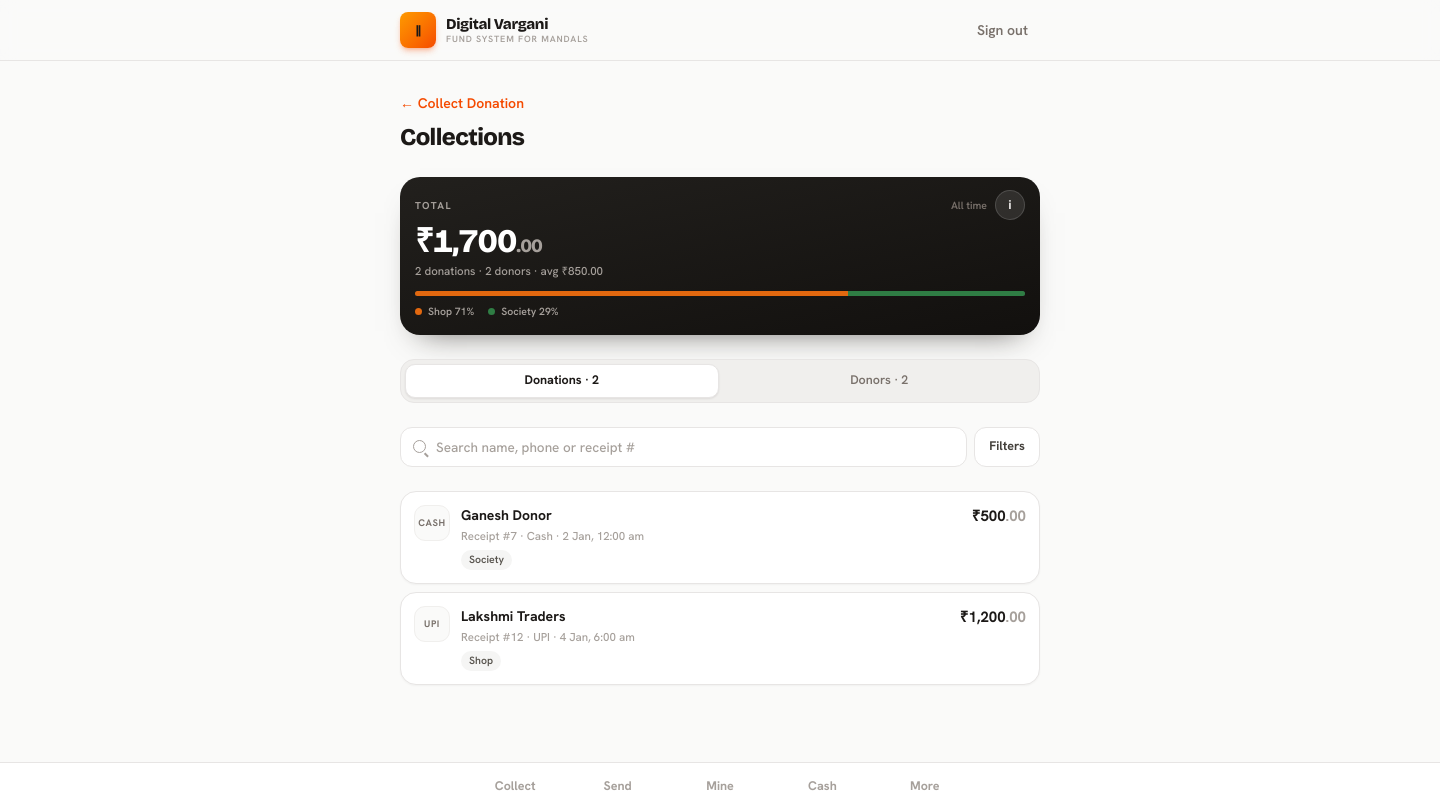
CollectionsContent — the Collections & donors tab › narrows the list by donor name, phone digits, receipt number and collector name
The width and height of the screenshot is (1440, 810).
Expected: the text "Ganesh Donor" is shown, [461,506,552,524]
// Name (case-insensitive, partial).
Type "LAKSH" into the search field at (695, 447), box [436,436,954,457]
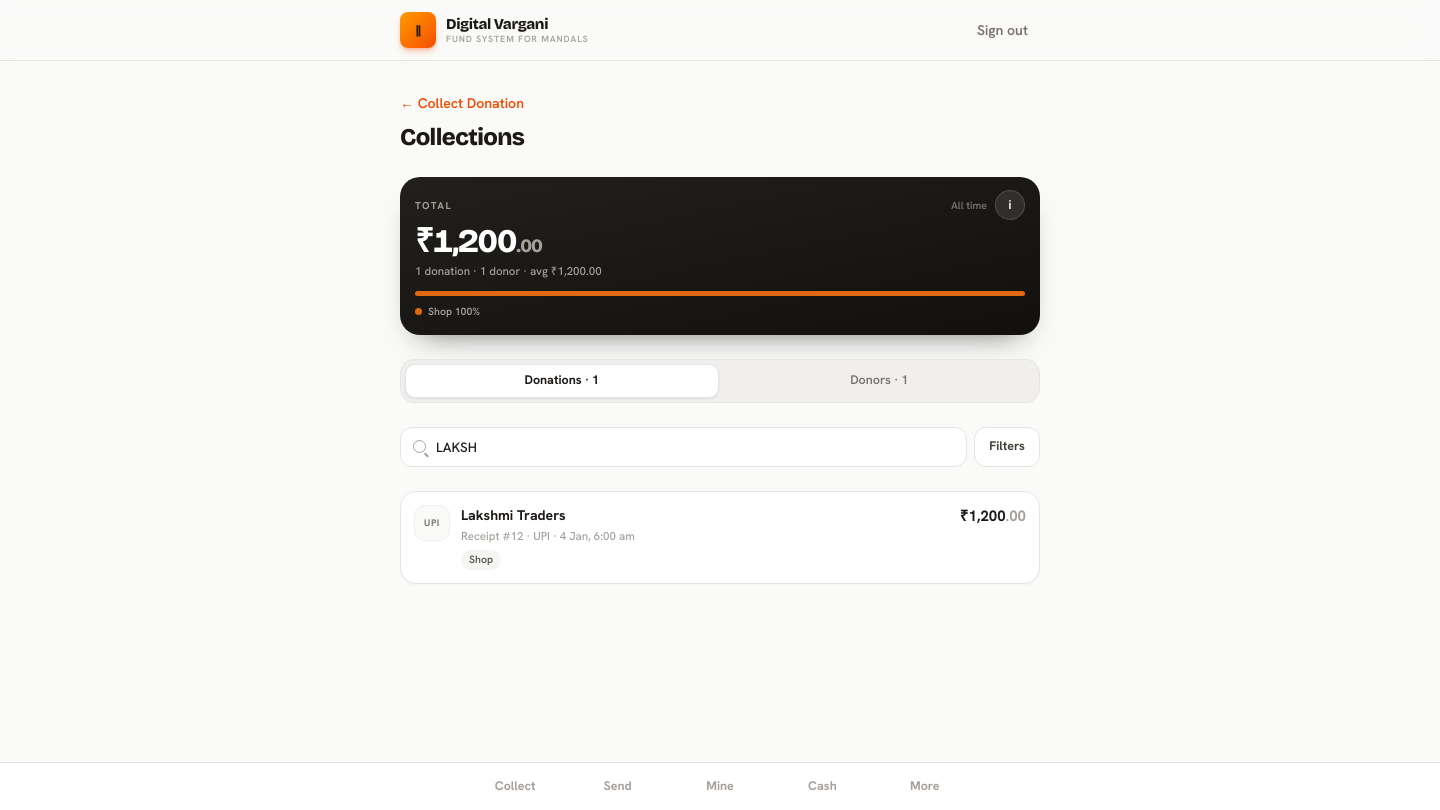
Expected: the text "Lakshmi Traders" is shown, [461,506,566,524]
Result: the button "Ganesh Donor" is gone
// Phone digits — the legacy 10-digit row matches its own digits.
Replace the text in the search field with "9000 0000" at (695, 447), box [436,436,954,457]
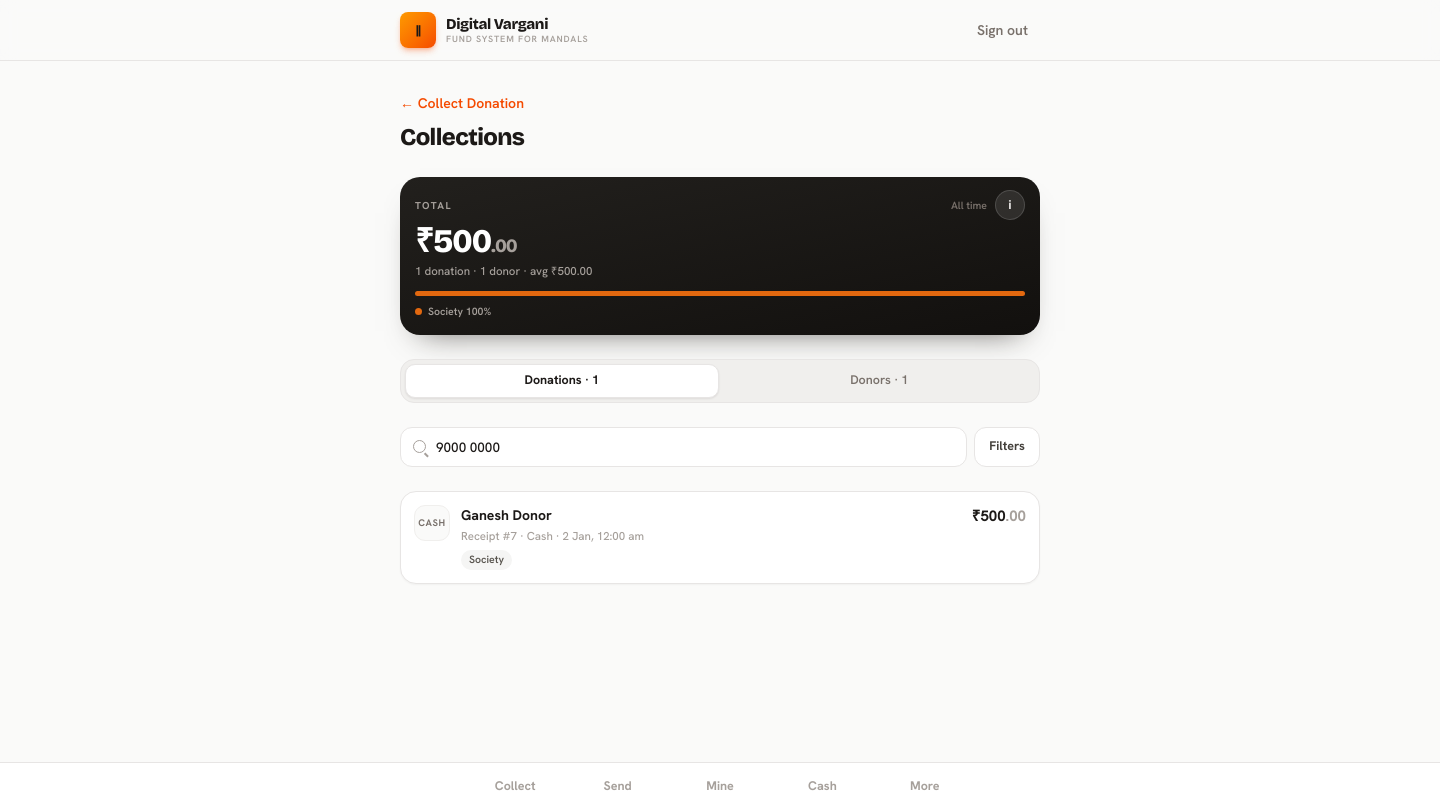
Result: the text "Ganesh Donor" is shown at [461,506,552,524]
Result: the button "Lakshmi Traders" is gone
Replace the text in the search field with "#12" at (695, 447), box [436,436,954,457]
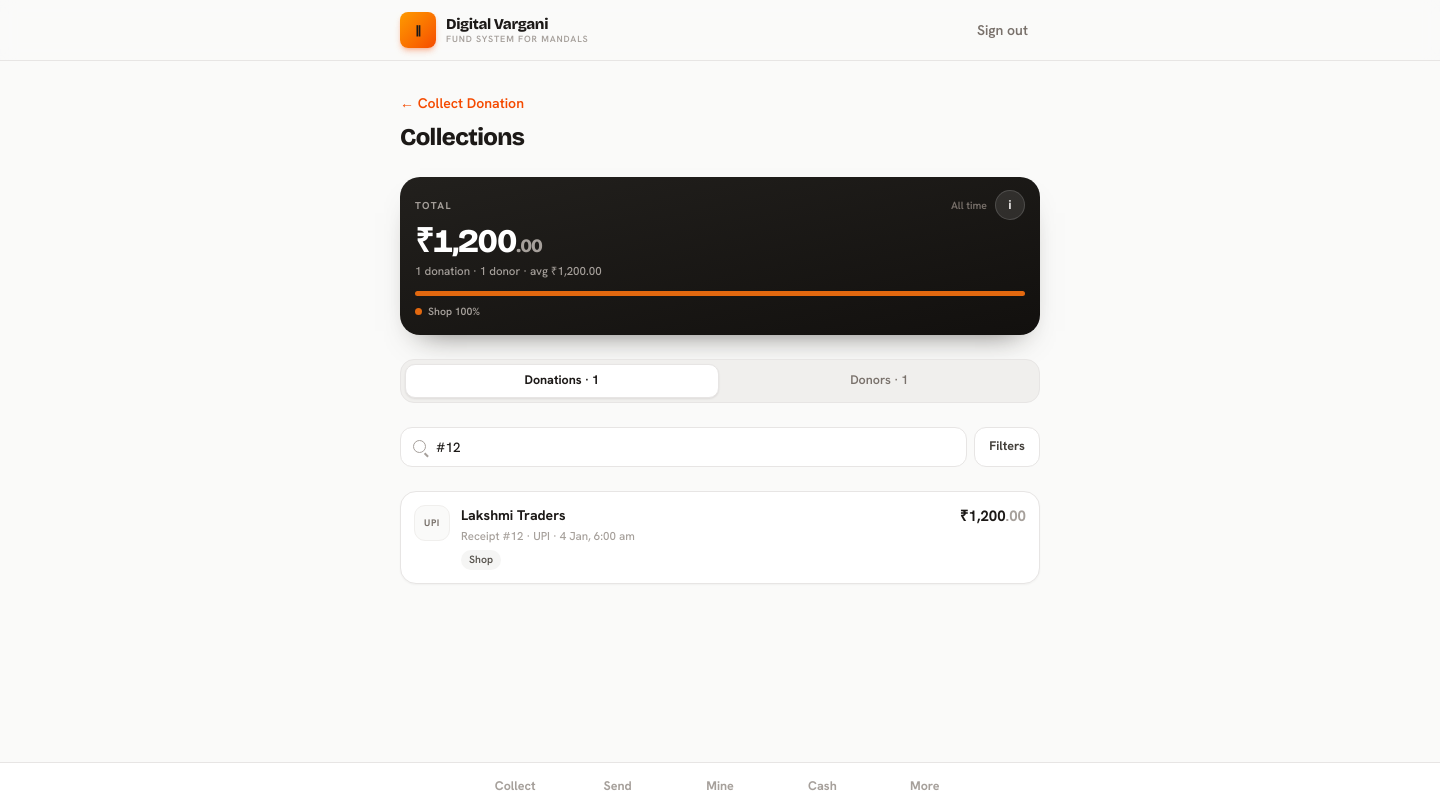
Result: the text "Lakshmi Traders" is shown at [461,506,566,524]
Replace the text in the search field with "7" at (695, 447), box [436,436,954,457]
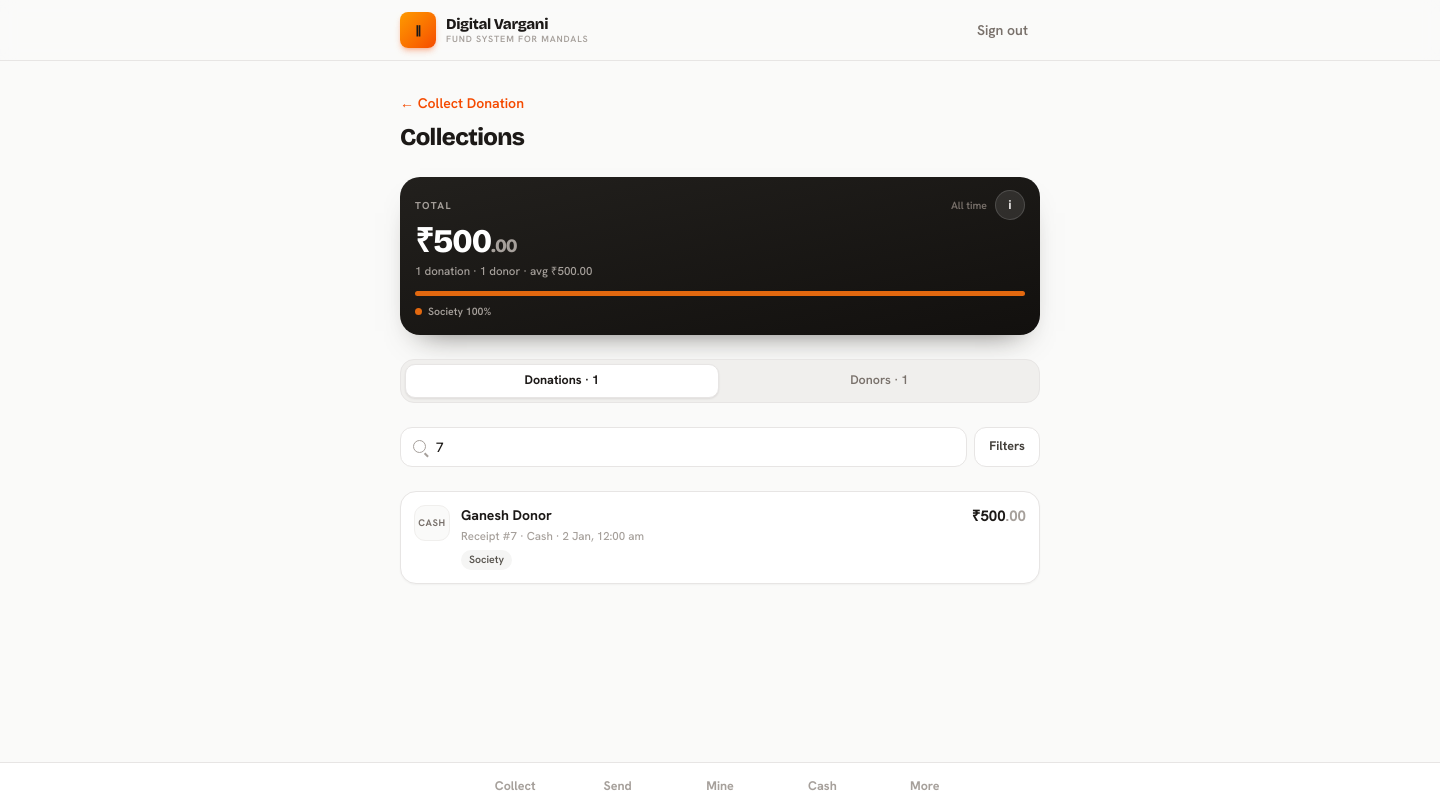
Result: the text "Ganesh Donor" is shown at [461,506,552,524]
Result: the button "Lakshmi Traders" is gone
// Collector name via the id → name map.
Replace the text in the search field with "raju" at (695, 447), box [436,436,954,457]
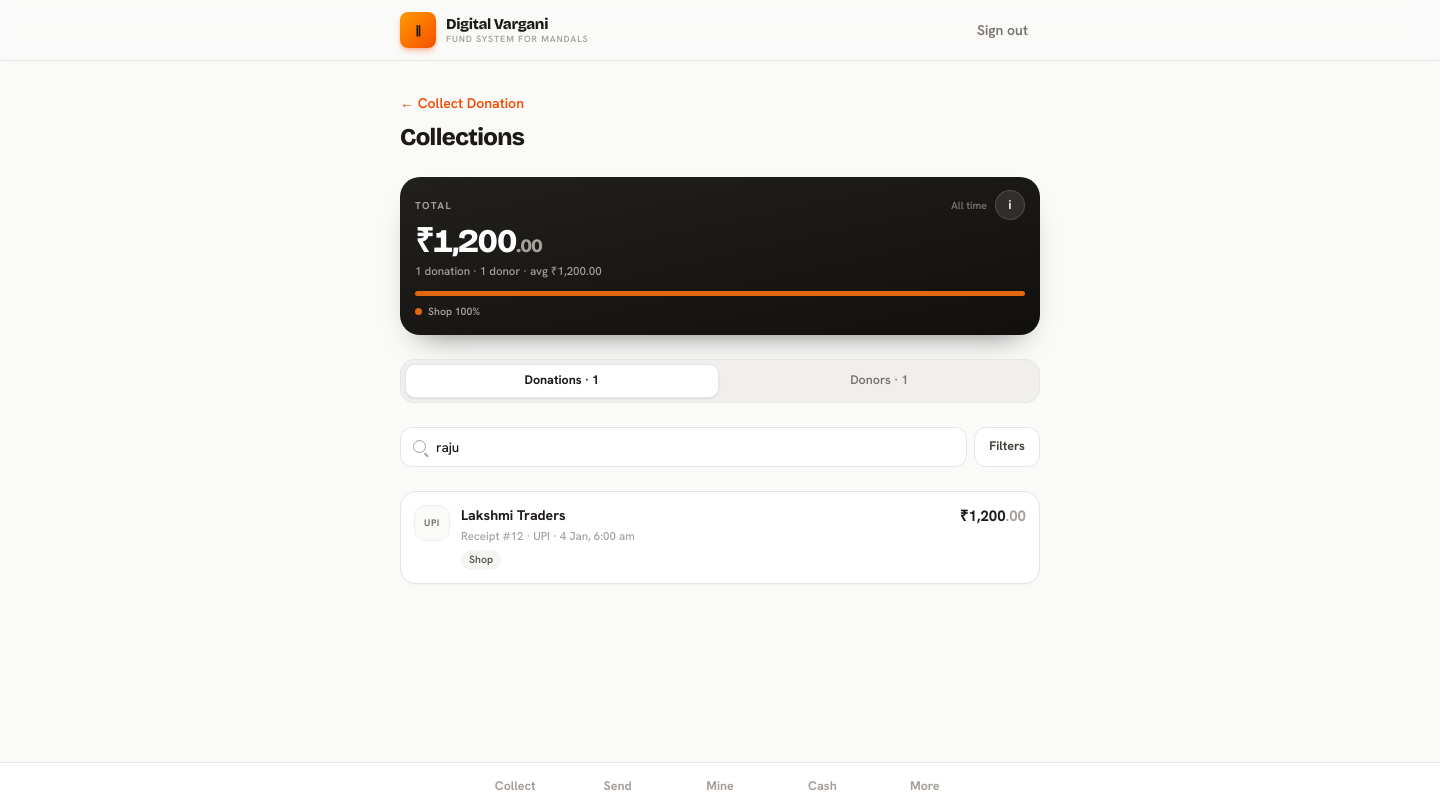
Result: the text "Lakshmi Traders" is shown at [461,506,566,524]
// No match → the filtered-empty copy, never the "no donations yet" one.
Replace the text in the search field with "zzz" at (695, 447), box [436,436,954,457]
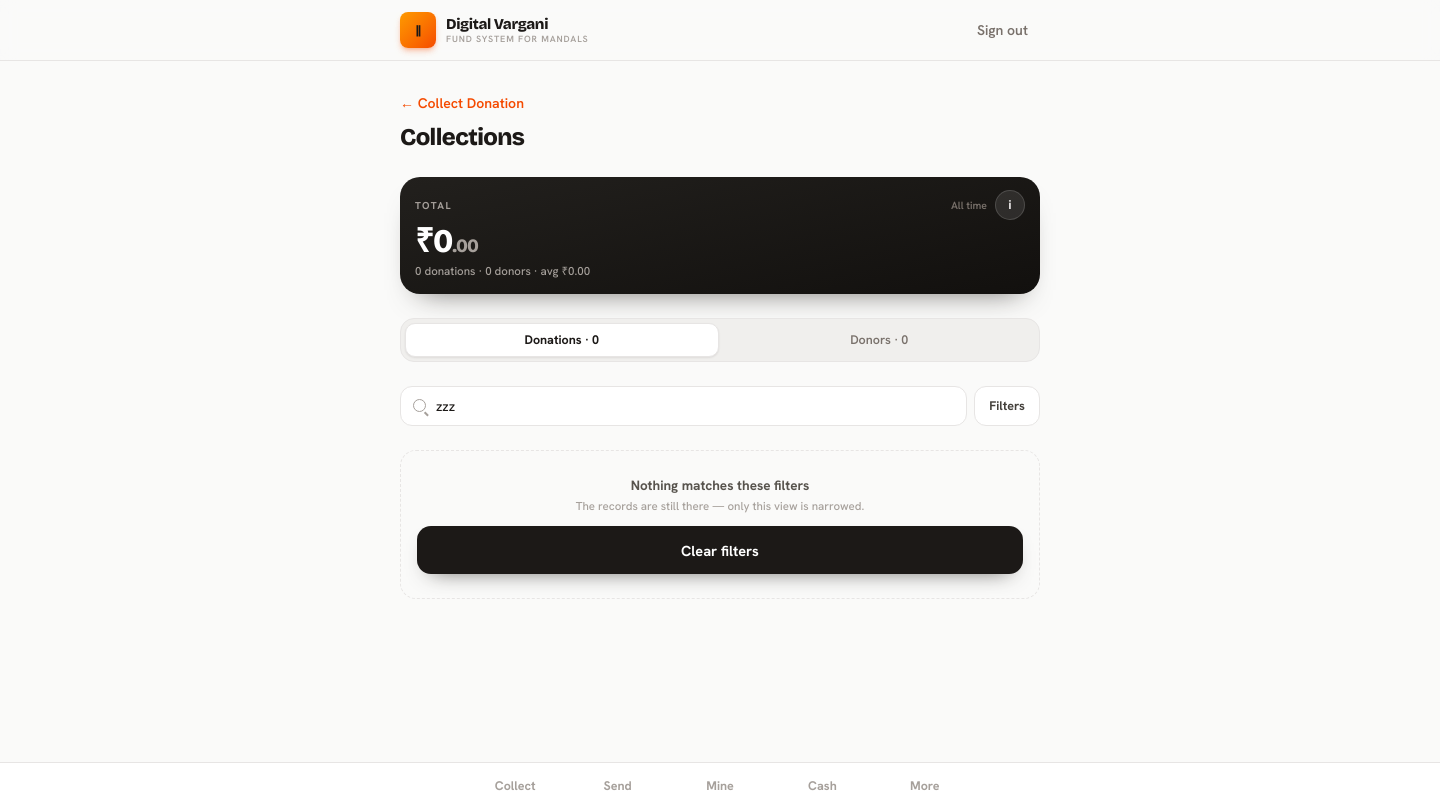
Result: the text "Nothing matches these filters" is shown at [631,476,809,494]
